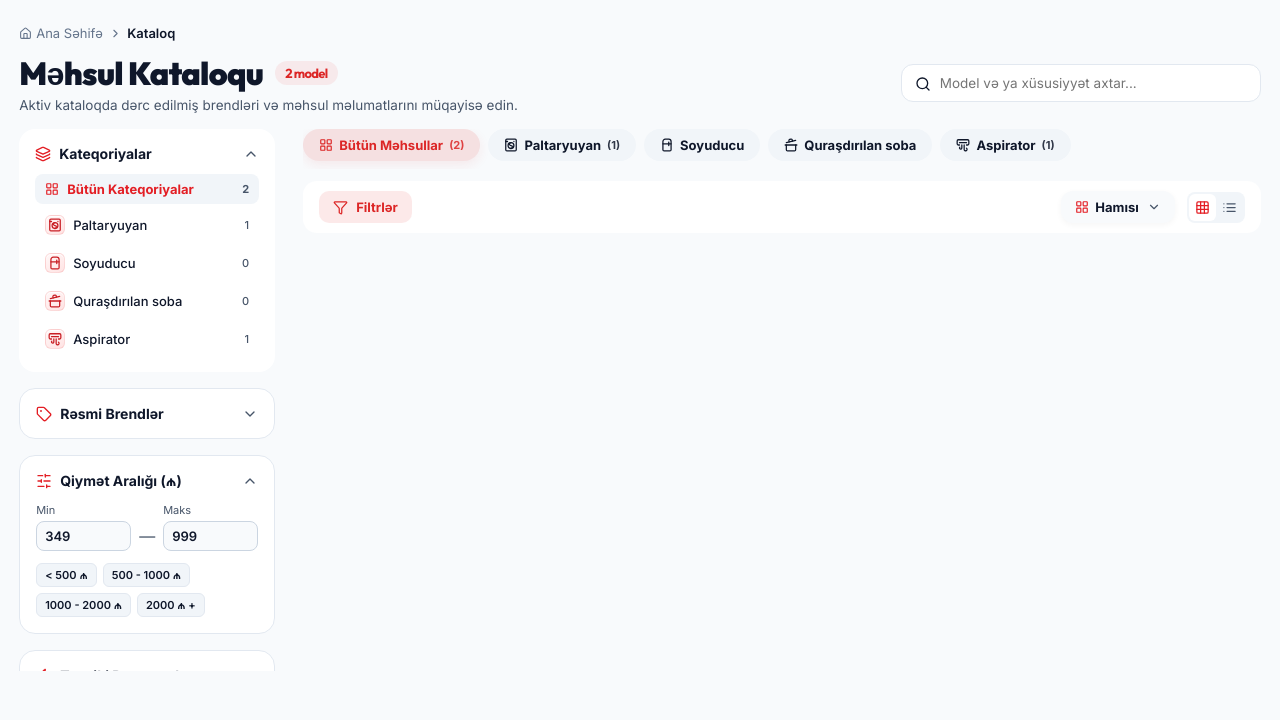
it: Item 20: Catalog Refinements & Comparison System Tests › 1. Rəsmi Brendlər section is collapsed (closed) by default in sidebar
Click the text "Rəsmi Brendlər" at coordinates (100, 414), box [36, 405, 164, 422]
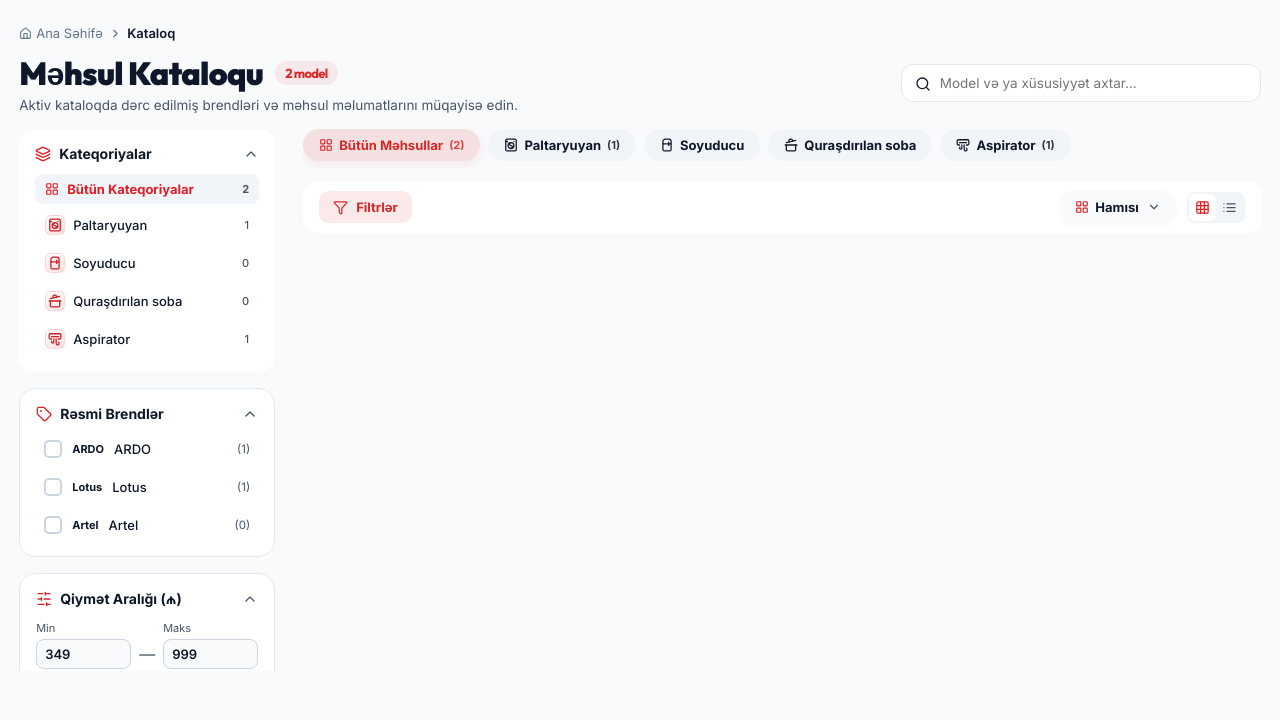
Result: the 1st text "Lotus" is shown at [72, 480, 102, 494]
